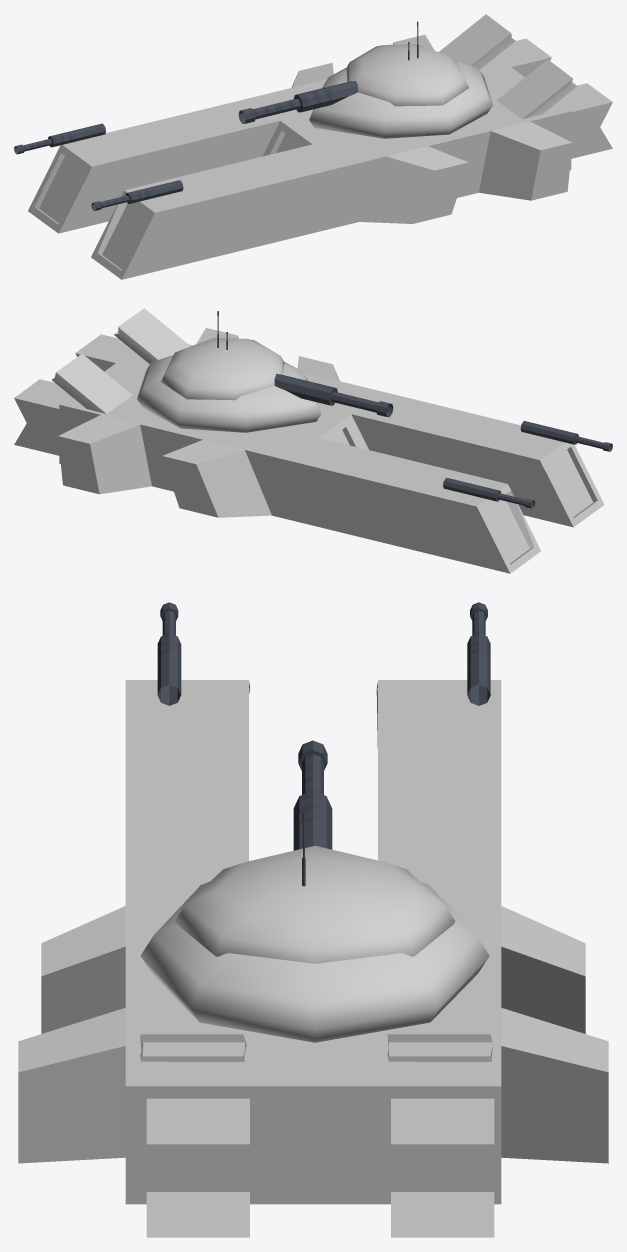
File: Enemy_Ship_3.fbx
3 views of the same model, one above another, from view 1: azimuth 30°, elevation 25°; view 2: azimuth 150°, elevation 25°; view 3: azimuth 270°, elevation 25° (orthographic). The views are drawn at different scales.
Visible parts, largest first — view 1: Enemy_Ship3; view 2: Enemy_Ship3; view 3: Enemy_Ship3.
Part boxes in pixels (bbox=[...]): Enemy_Ship3: bbox=[14, 14, 612, 279]; Enemy_Ship3: bbox=[14, 308, 612, 573]; Enemy_Ship3: bbox=[18, 602, 608, 1237].
Size of the model in its own units: 222 by 58.9 by 111.
